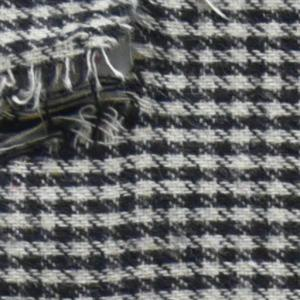Damage: (1, 1, 166, 172), (202, 1, 238, 27)
